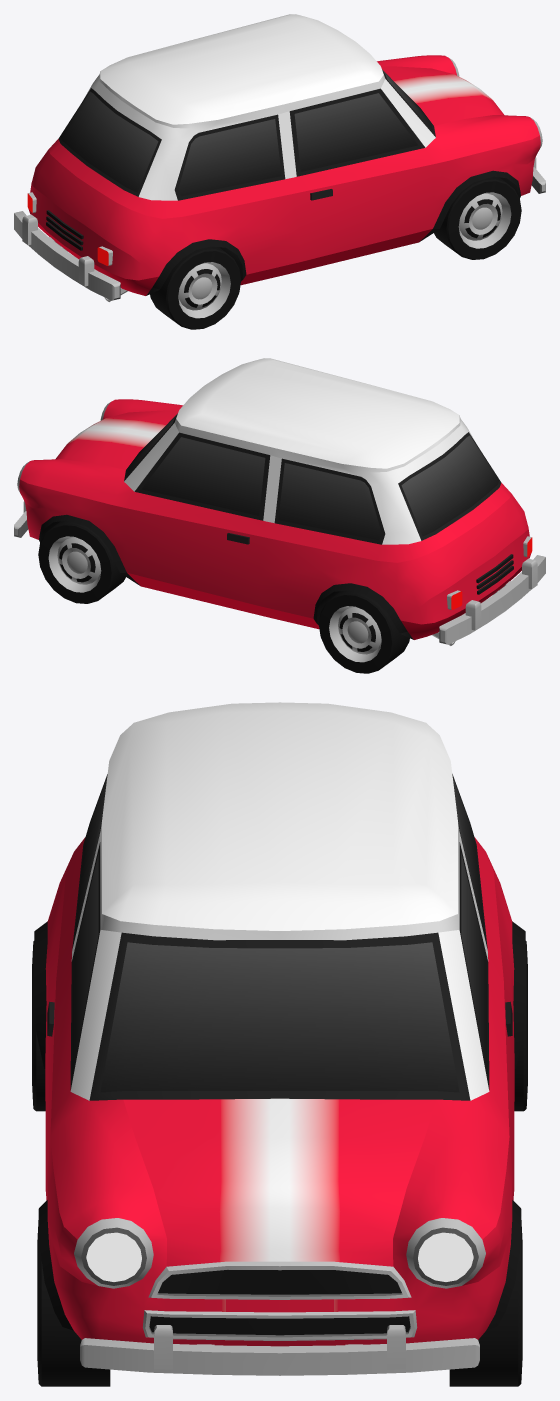
File: Car_266.glb
The picture shows the model from 3 angles, top to bottom: view 1: azimuth 30°, elevation 25°; view 2: azimuth 150°, elevation 25°; view 3: azimuth 270°, elevation 25°; orthographic projection. The views are drawn at different scales.
Visible parts, largest first — view 1: Car_266, wheel_3_Car_266_Wheel_2R, wheel_1_Car_266_Wheel_1R; view 2: Car_266, wheel_2_Car_266_Wheel_2L, wheel_0_Car_266_Wheel_1L; view 3: Car_266, wheel_0_Car_266_Wheel_1L, wheel_1_Car_266_Wheel_1R, wheel_3_Car_266_Wheel_2R, wheel_2_Car_266_Wheel_2L.
Part boxes in pixels (x1,y1,x2,y2): Car_266: [14, 14, 545, 301]; wheel_3_Car_266_Wheel_2R: [150, 246, 241, 329]; wheel_1_Car_266_Wheel_1R: [434, 176, 521, 259]; Car_266: [14, 358, 545, 645]; wheel_2_Car_266_Wheel_2L: [318, 590, 409, 673]; wheel_0_Car_266_Wheel_1L: [38, 520, 125, 603]; Car_266: [33, 702, 526, 1375]; wheel_0_Car_266_Wheel_1L: [449, 1216, 522, 1386]; wheel_1_Car_266_Wheel_1R: [37, 1216, 110, 1386]; wheel_3_Car_266_Wheel_2R: [32, 941, 45, 1111]; wheel_2_Car_266_Wheel_2L: [514, 941, 527, 1111].
Size of the model in its own units: 3.48 by 1.48 by 1.65.
2 materials, 2 textured.
